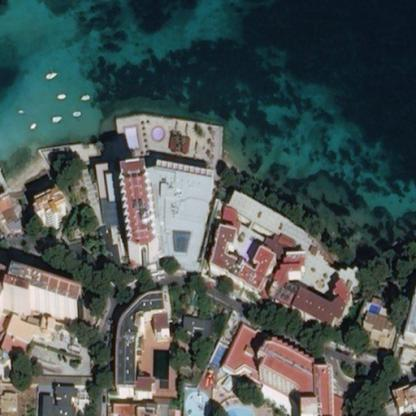ship: (43, 62, 59, 80), (77, 90, 92, 104), (25, 119, 39, 132), (48, 112, 63, 124), (54, 90, 68, 102), (14, 104, 27, 116), (69, 109, 84, 118)
